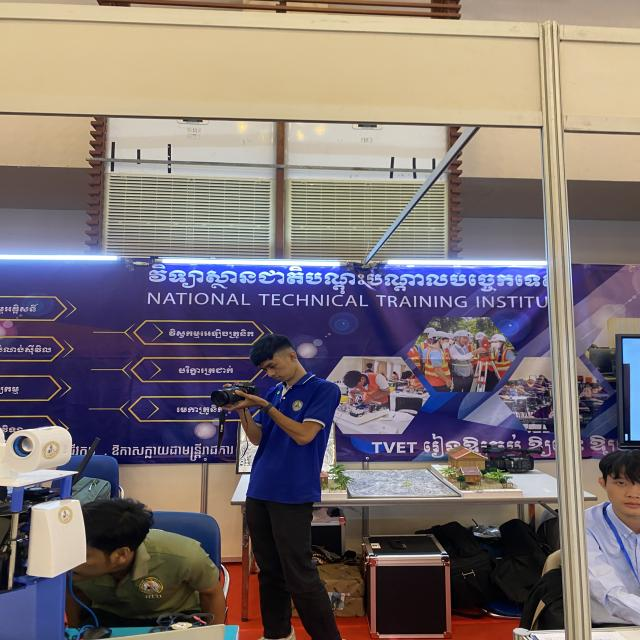Yolov11_80vkh: (143, 261, 550, 293), (106, 440, 242, 462), (164, 323, 257, 341), (170, 362, 241, 376), (2, 340, 53, 357), (173, 401, 221, 414), (5, 302, 38, 314), (3, 384, 24, 396)
